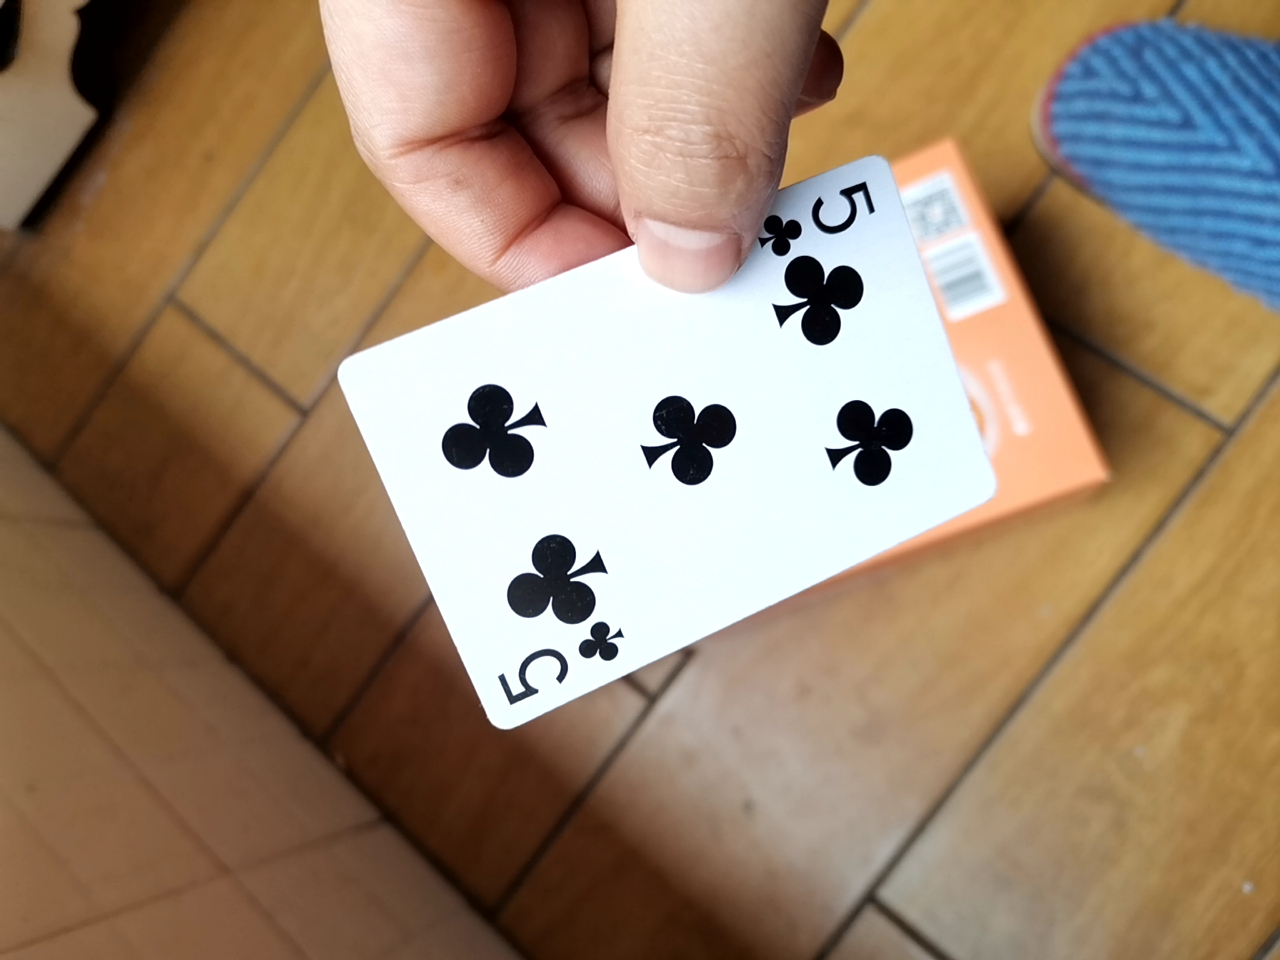mh 5: (324, 177, 1002, 726)
